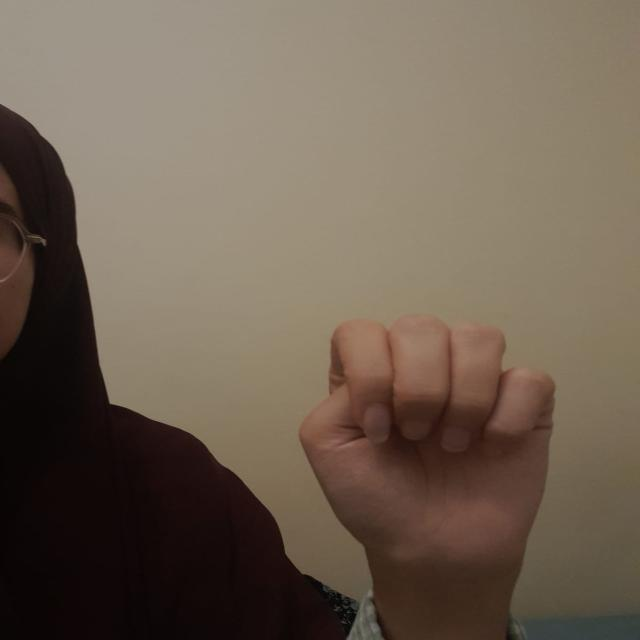Closed Hand: (298, 315, 558, 580)
